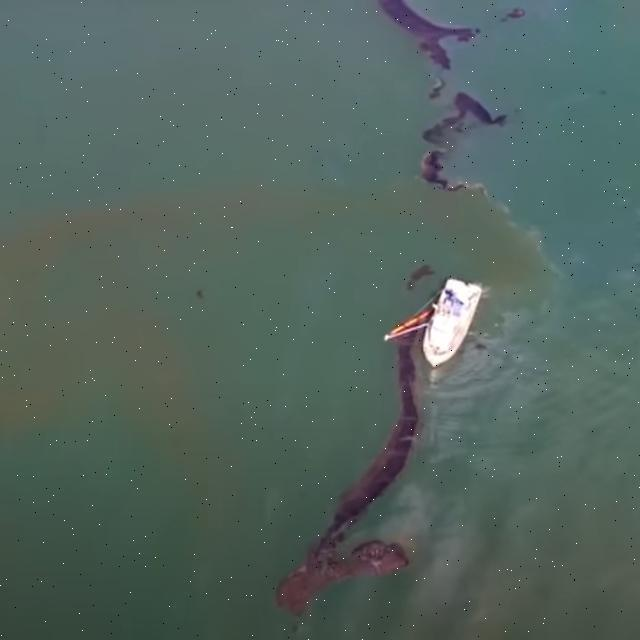oil: (267, 344, 465, 635)
